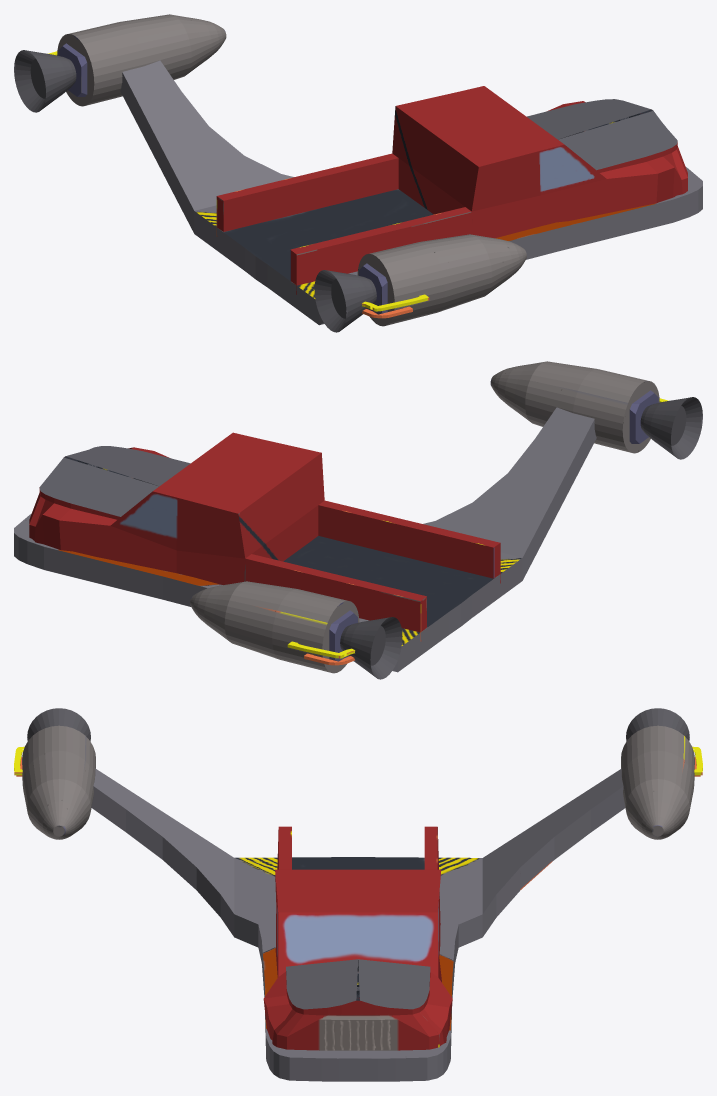
The model's file is ship.fbx.
The picture shows the model from 3 angles, top to bottom: view 1: azimuth 30°, elevation 25°; view 2: azimuth 150°, elevation 25°; view 3: azimuth 270°, elevation 25°; orthographic projection.
Parts seen in each view (by area): view 1: Plane; view 2: Plane; view 3: Plane.
Boxes of the visible parts, box(x1,y1,x2,y2) form: Plane: box(14, 14, 702, 332); Plane: box(14, 361, 702, 679); Plane: box(14, 708, 702, 1081).
Size of the model in its own units: 386 by 106 by 472.
Materials: 1 (1 with a texture image).
